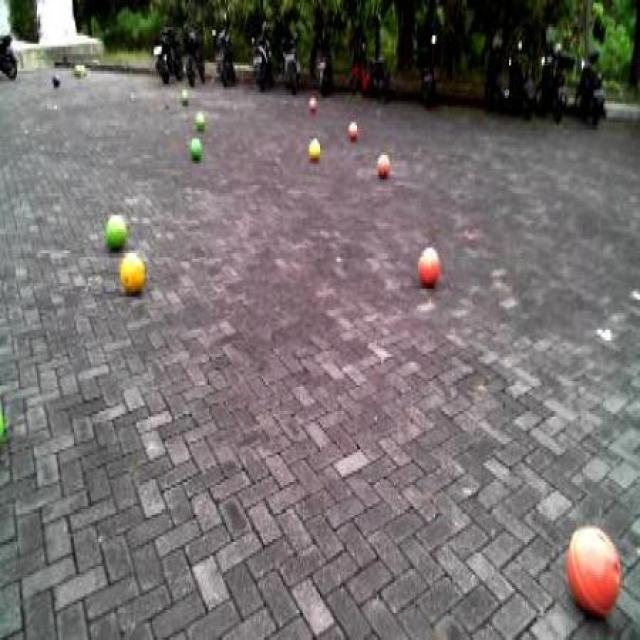buoy: (549, 503, 633, 631), (406, 229, 450, 307), (92, 193, 138, 256), (112, 237, 153, 305), (368, 134, 398, 190), (298, 123, 328, 171), (0, 371, 13, 481), (180, 122, 210, 167), (346, 110, 365, 146), (177, 80, 196, 110)
